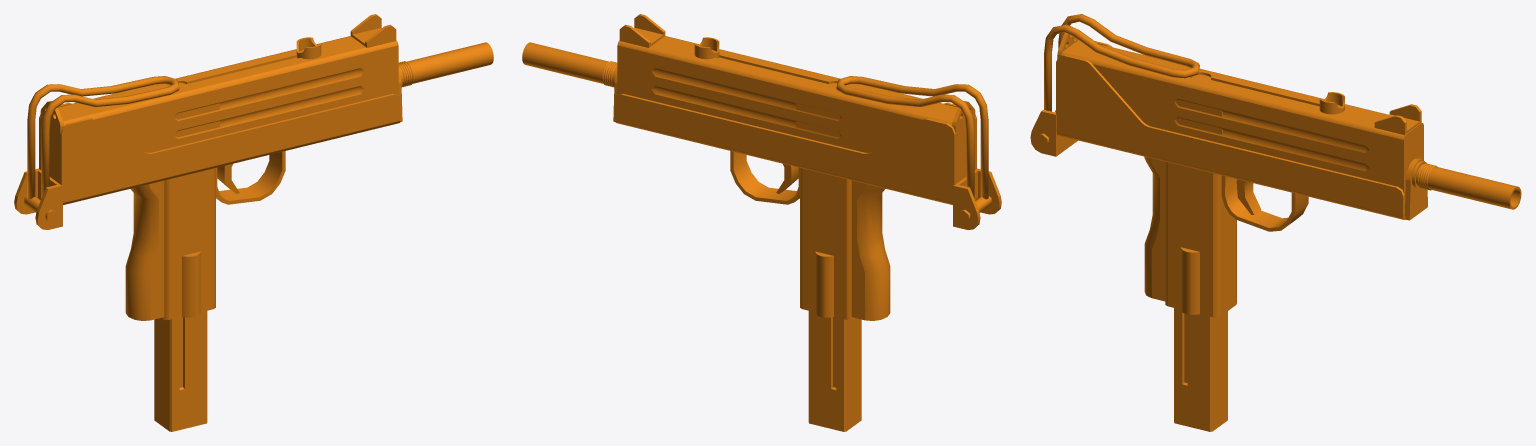
3 renders of one model, left to right at view 1: azimuth 30°, elevation 25°; view 2: azimuth 150°, elevation 25°; view 3: azimuth 330°, elevation 25°, orthographic. The views are drawn at different scales.
Parts seen in each view (by area): view 1: lil uzi road; view 2: lil uzi road; view 3: lil uzi road.
Part boxes in pixels (x1=…): lil uzi road: x1=14, y1=14, x2=493, y2=431; lil uzi road: x1=522, y1=14, x2=1001, y2=431; lil uzi road: x1=1030, y1=14, x2=1521, y2=431.
Size of the model in its own units: 28.43 by 21.28 by 2.97.
